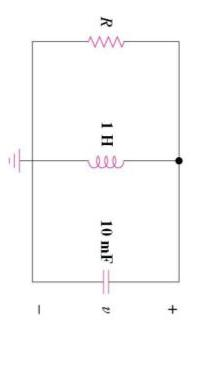Capacitor: (85, 266, 124, 296)
